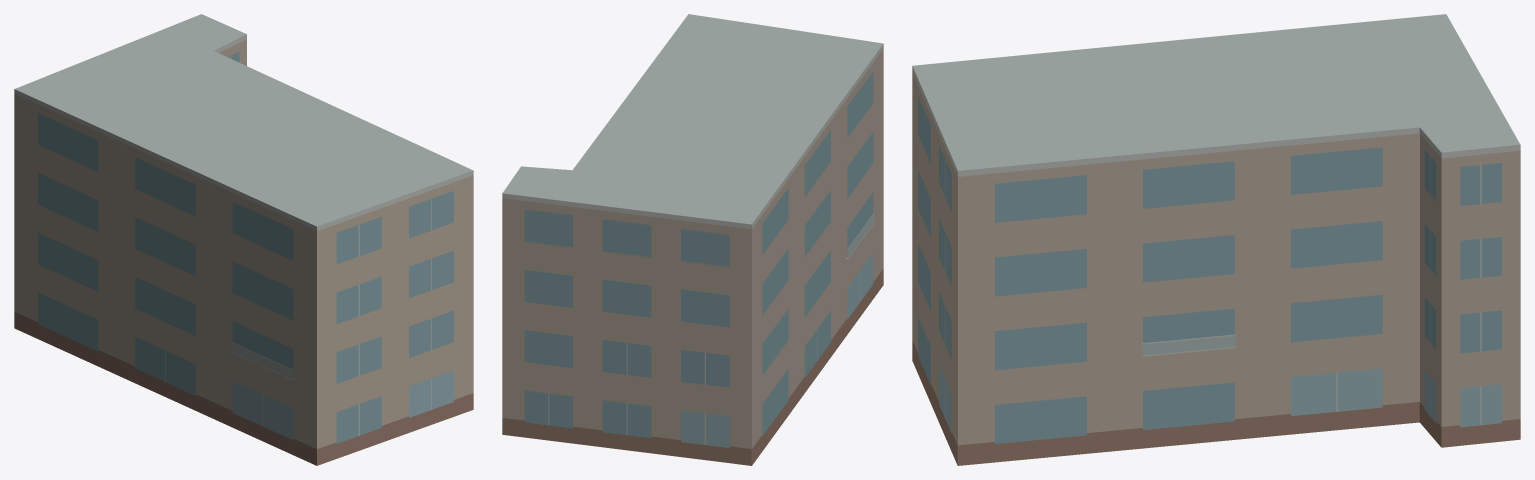
The model's file is residential-738dac93-2ab2-4825-9a96-b71b75bf1ee1.glb.
3 views of the same model, side by side, from view 1: azimuth 30°, elevation 25°; view 2: azimuth 150°, elevation 25°; view 3: azimuth 270°, elevation 25° (orthographic). The views are drawn at different scales.
Visible parts, largest first — view 1: residential-738dac93-2ab2-4825-9a96-b71b75bf1ee1.tmp; view 2: residential-738dac93-2ab2-4825-9a96-b71b75bf1ee1.tmp; view 3: residential-738dac93-2ab2-4825-9a96-b71b75bf1ee1.tmp.
Boxes of the visible parts, x1,y1,x2,y2 form: residential-738dac93-2ab2-4825-9a96-b71b75bf1ee1.tmp: [14, 14, 473, 465]; residential-738dac93-2ab2-4825-9a96-b71b75bf1ee1.tmp: [502, 14, 883, 465]; residential-738dac93-2ab2-4825-9a96-b71b75bf1ee1.tmp: [912, 14, 1520, 465].
Bounding box in the file's own units: 13.93 × 12.2 × 22.81.
